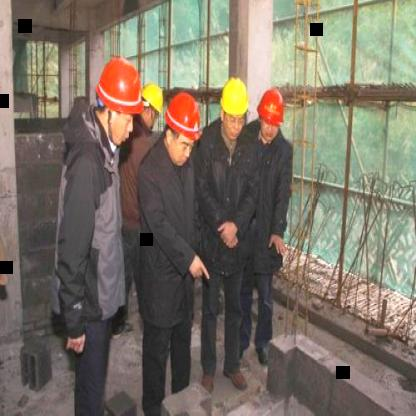helmet: (92, 52, 146, 154), (160, 90, 202, 165), (219, 74, 250, 140), (258, 85, 289, 143), (138, 84, 168, 134)
